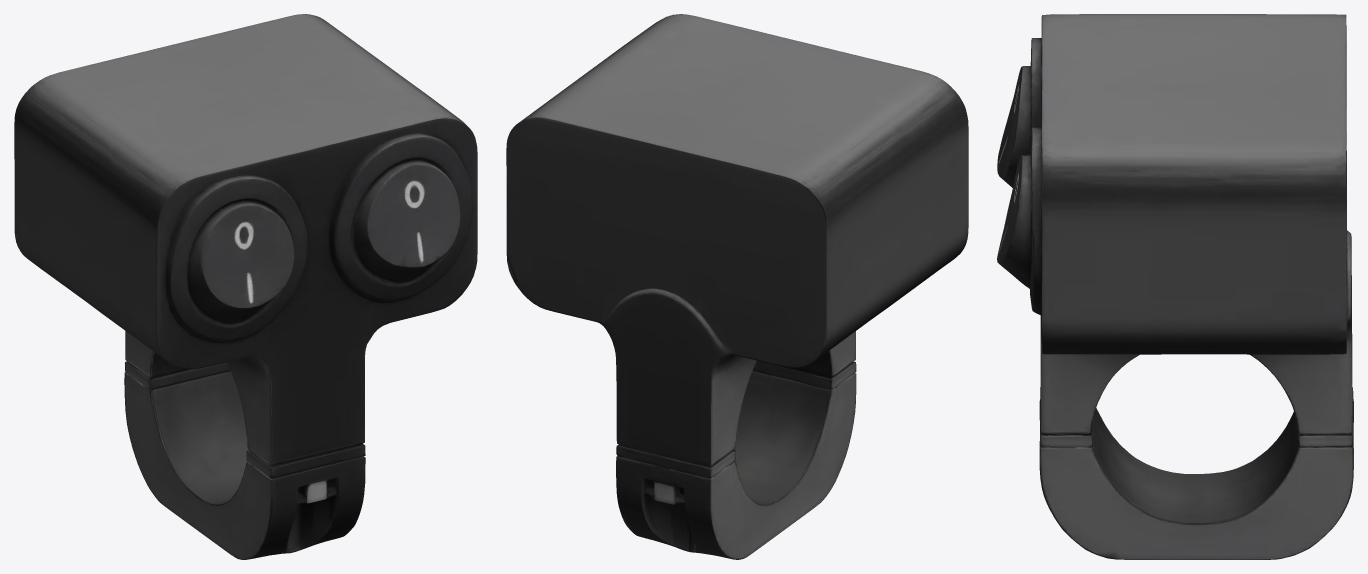
File: blocchetto_comandi.glb
The picture shows the model from 3 angles, left to right: view 1: azimuth 30°, elevation 25°; view 2: azimuth 150°, elevation 25°; view 3: azimuth 270°, elevation 25°; orthographic projection. The views are drawn at different scales.
Parts seen in each view (by area): view 1: Object_5; view 2: Object_5; view 3: Object_5.
Part boxes in pixels (bbox=[...]): Object_5: bbox=[14, 14, 477, 559]; Object_5: bbox=[506, 14, 968, 559]; Object_5: bbox=[997, 14, 1353, 559].
Bounding box in the file's own units: 0.0713 × 0.09 × 0.0641.
Materials: 1 (1 with a texture image).
